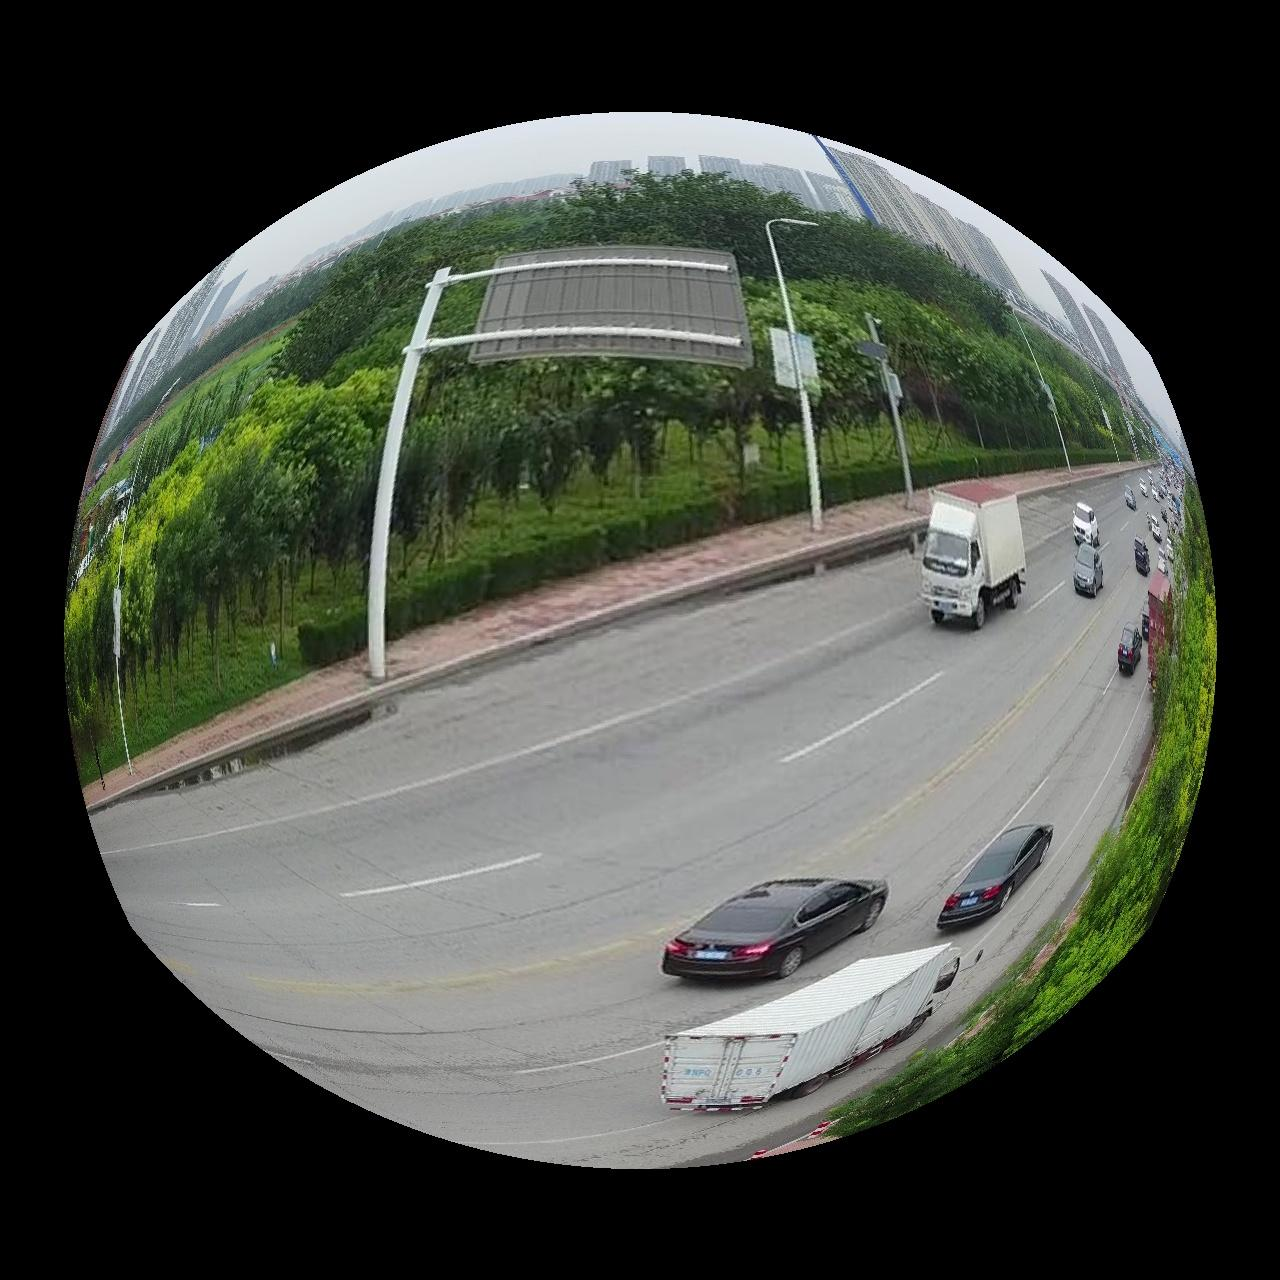cars: (663, 946, 961, 1112), (662, 879, 888, 980), (922, 481, 1028, 628), (939, 824, 1055, 931)
trees: (67, 196, 802, 776), (825, 481, 1219, 1141), (784, 217, 1061, 498)
